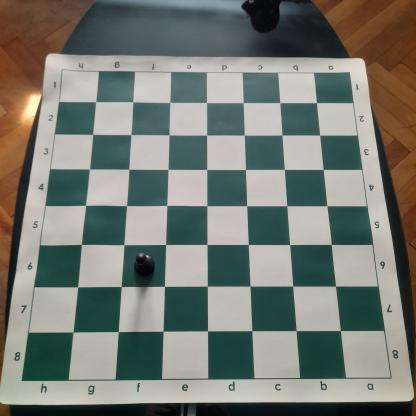black-pawn: (134, 252, 156, 279)
